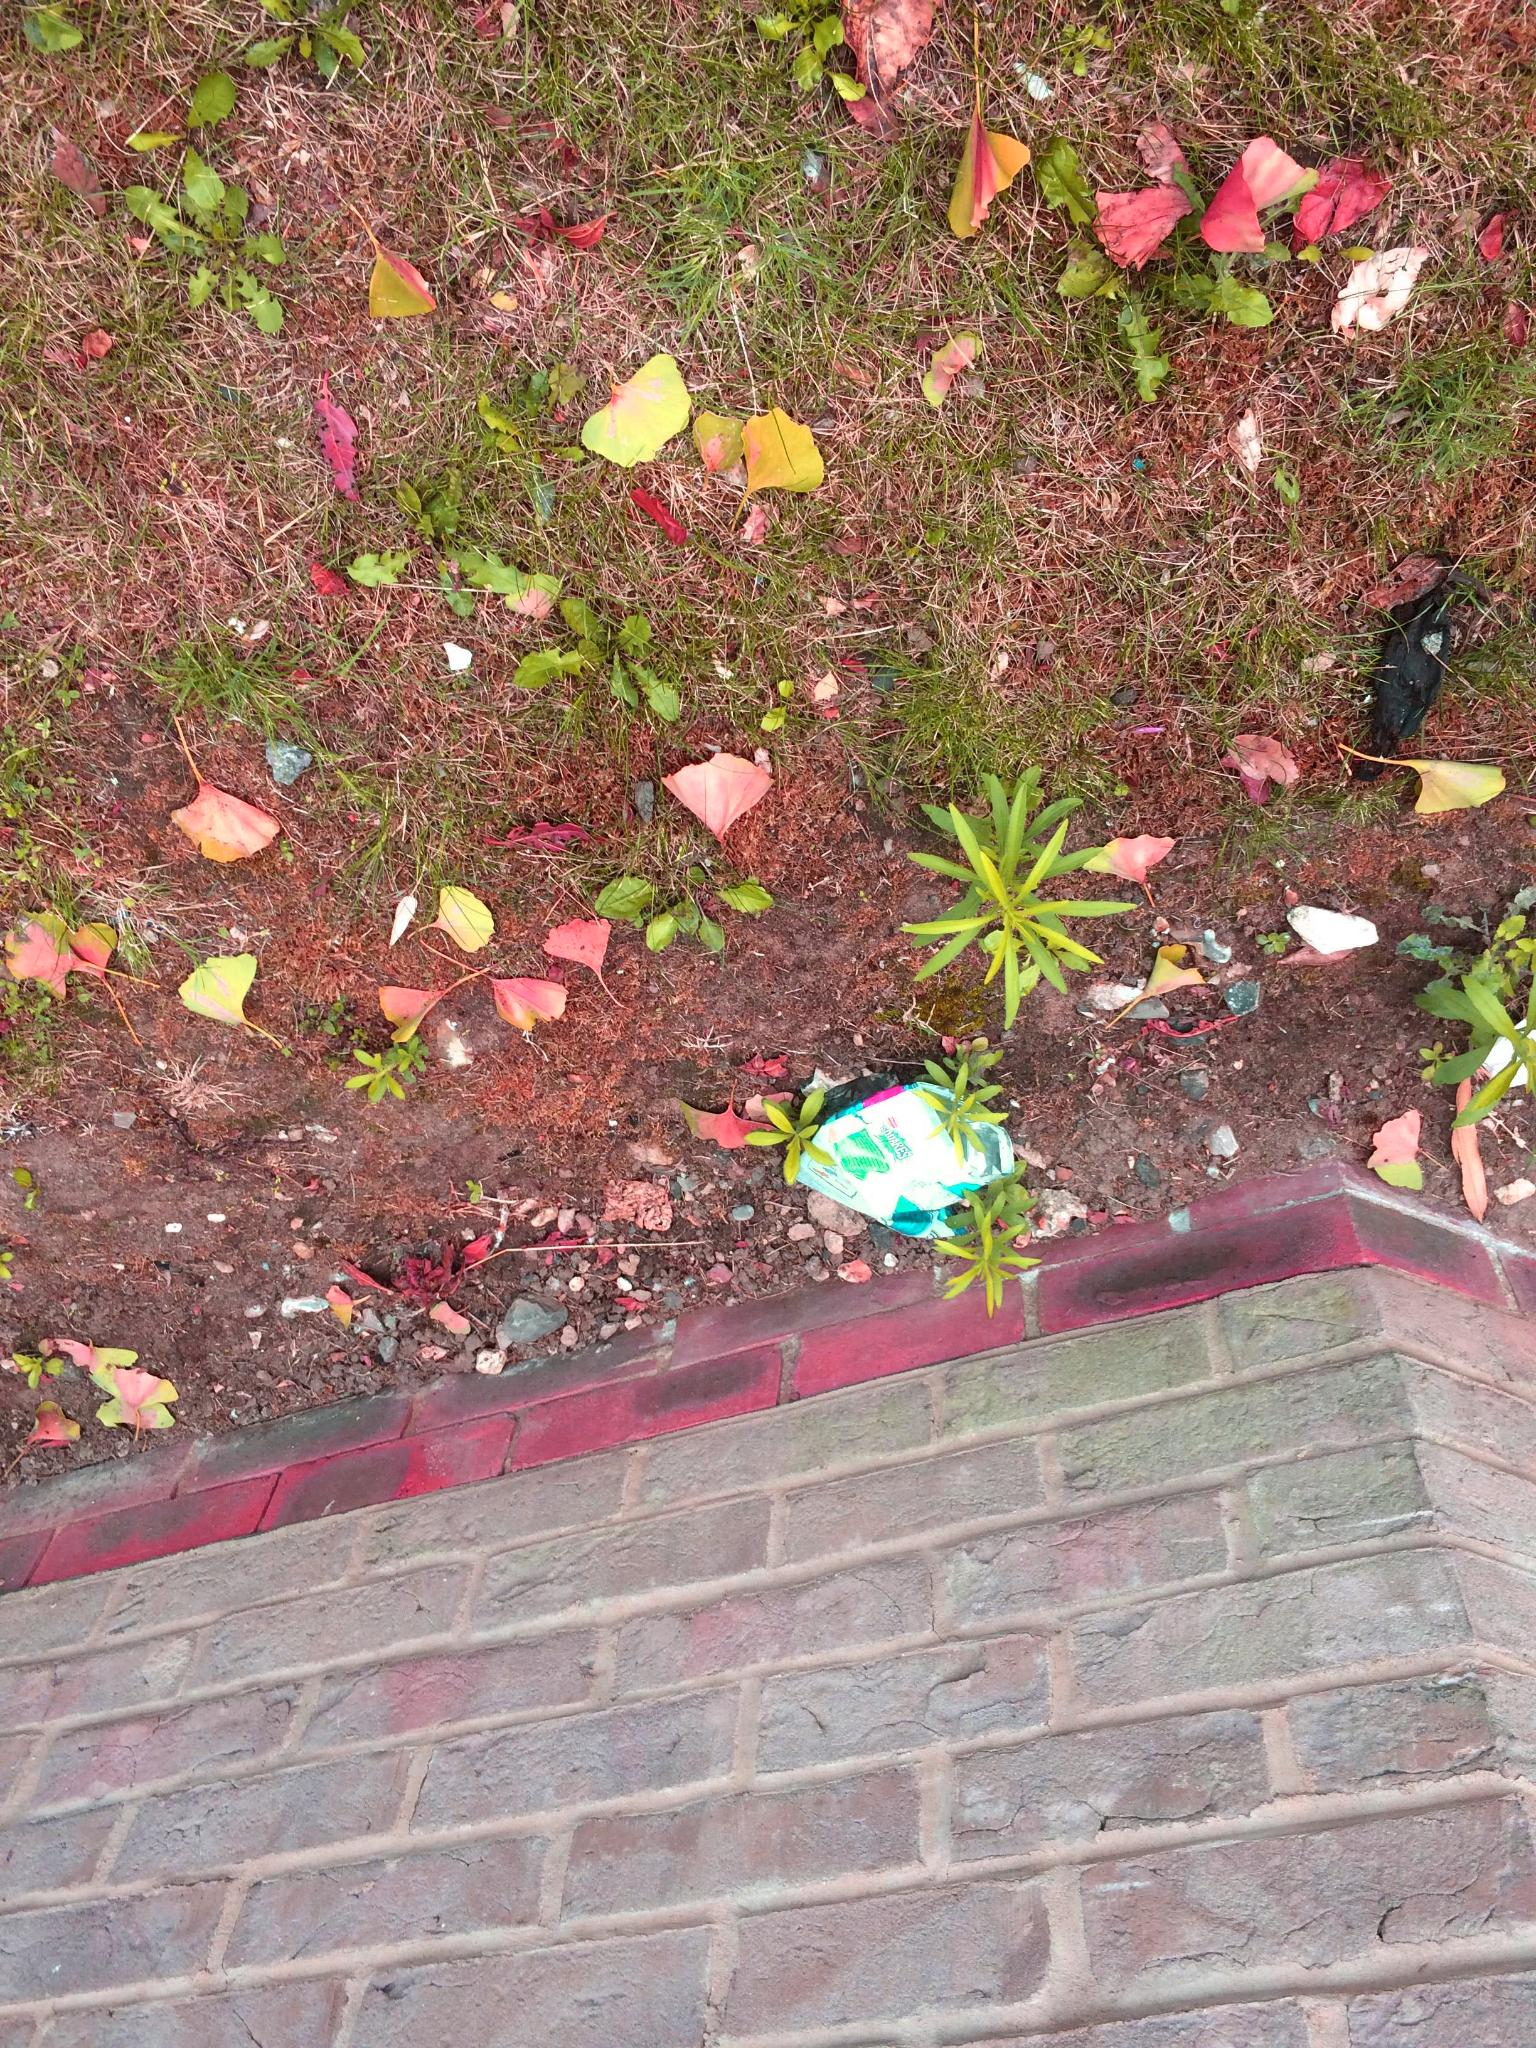Plastic: (778, 1077, 1023, 1247)
